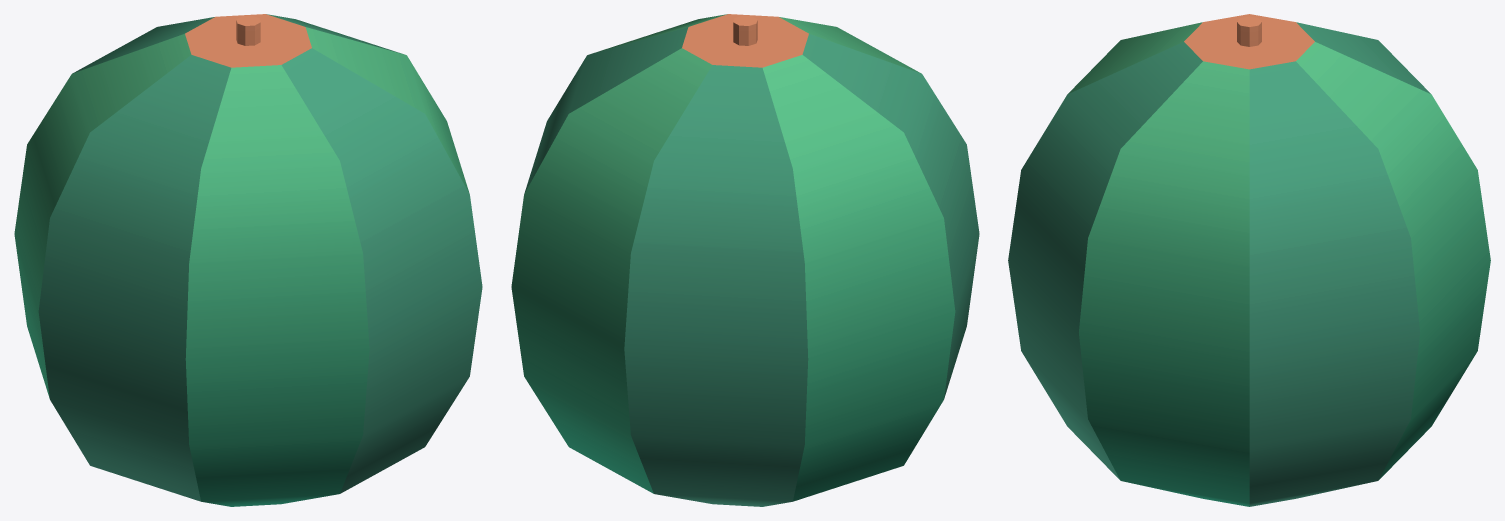
The model's file is watermelon-harvest.glb.
The picture shows the model from 3 angles, left to right: view 1: azimuth 30°, elevation 25°; view 2: azimuth 150°, elevation 25°; view 3: azimuth 270°, elevation 25°; orthographic projection.
Visible parts, largest first — view 1: slice; view 2: slice; view 3: slice.
Boxes of the visible parts, box(x1,y1,x2,y2) form: slice: box(14, 14, 482, 506); slice: box(511, 14, 979, 506); slice: box(1008, 14, 1490, 506).
Size of the model in its own units: 0.9565 by 1 by 0.9565.
1 material, 1 textured.
